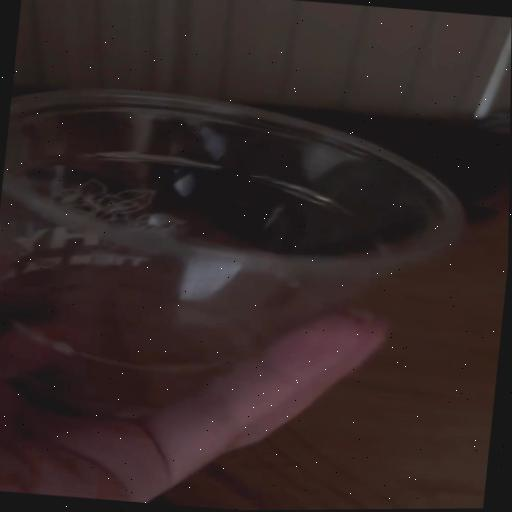ly_giay: (0, 90, 464, 417)
